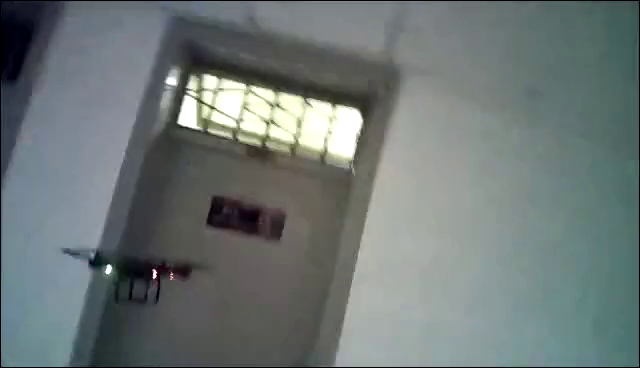drone: (62, 240, 215, 305)
